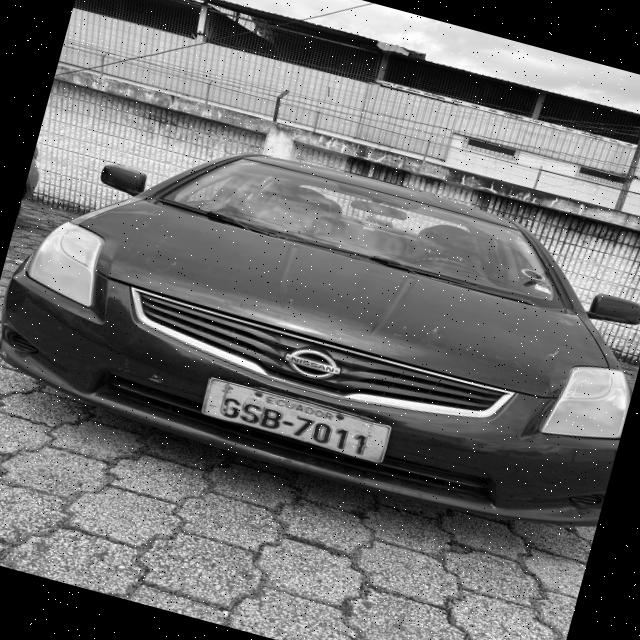Placa: (202, 378, 390, 462)
